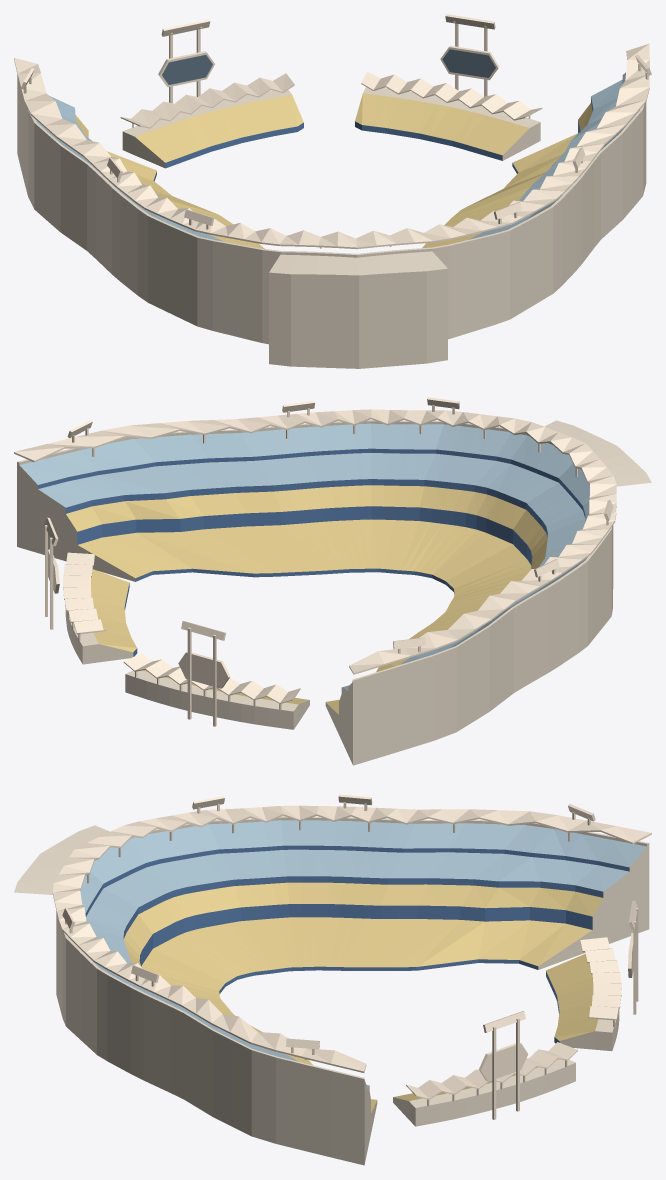
3 views of the same model, one above another, from view 1: azimuth 30°, elevation 25°; view 2: azimuth 150°, elevation 25°; view 3: azimuth 270°, elevation 25° (orthographic). The views are drawn at different scales.
Parts seen in each view (by area): view 1: dodger-stadium; view 2: dodger-stadium; view 3: dodger-stadium.
Boxes of the visible parts, x1=… form: dodger-stadium: x1=14, y1=14, x2=651, y2=368; dodger-stadium: x1=14, y1=397, x2=651, y2=765; dodger-stadium: x1=14, y1=794, x2=651, y2=1165.
Size of the model in its own units: 245 by 47.84 by 248.
